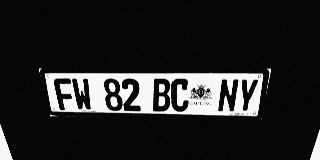2: (121, 78, 141, 111)
8: (102, 78, 123, 111)
B: (152, 79, 170, 111)
C: (171, 79, 190, 112)
F: (53, 78, 76, 110)
N: (217, 79, 239, 112)
W: (71, 78, 93, 110)
Y: (235, 79, 259, 112)
